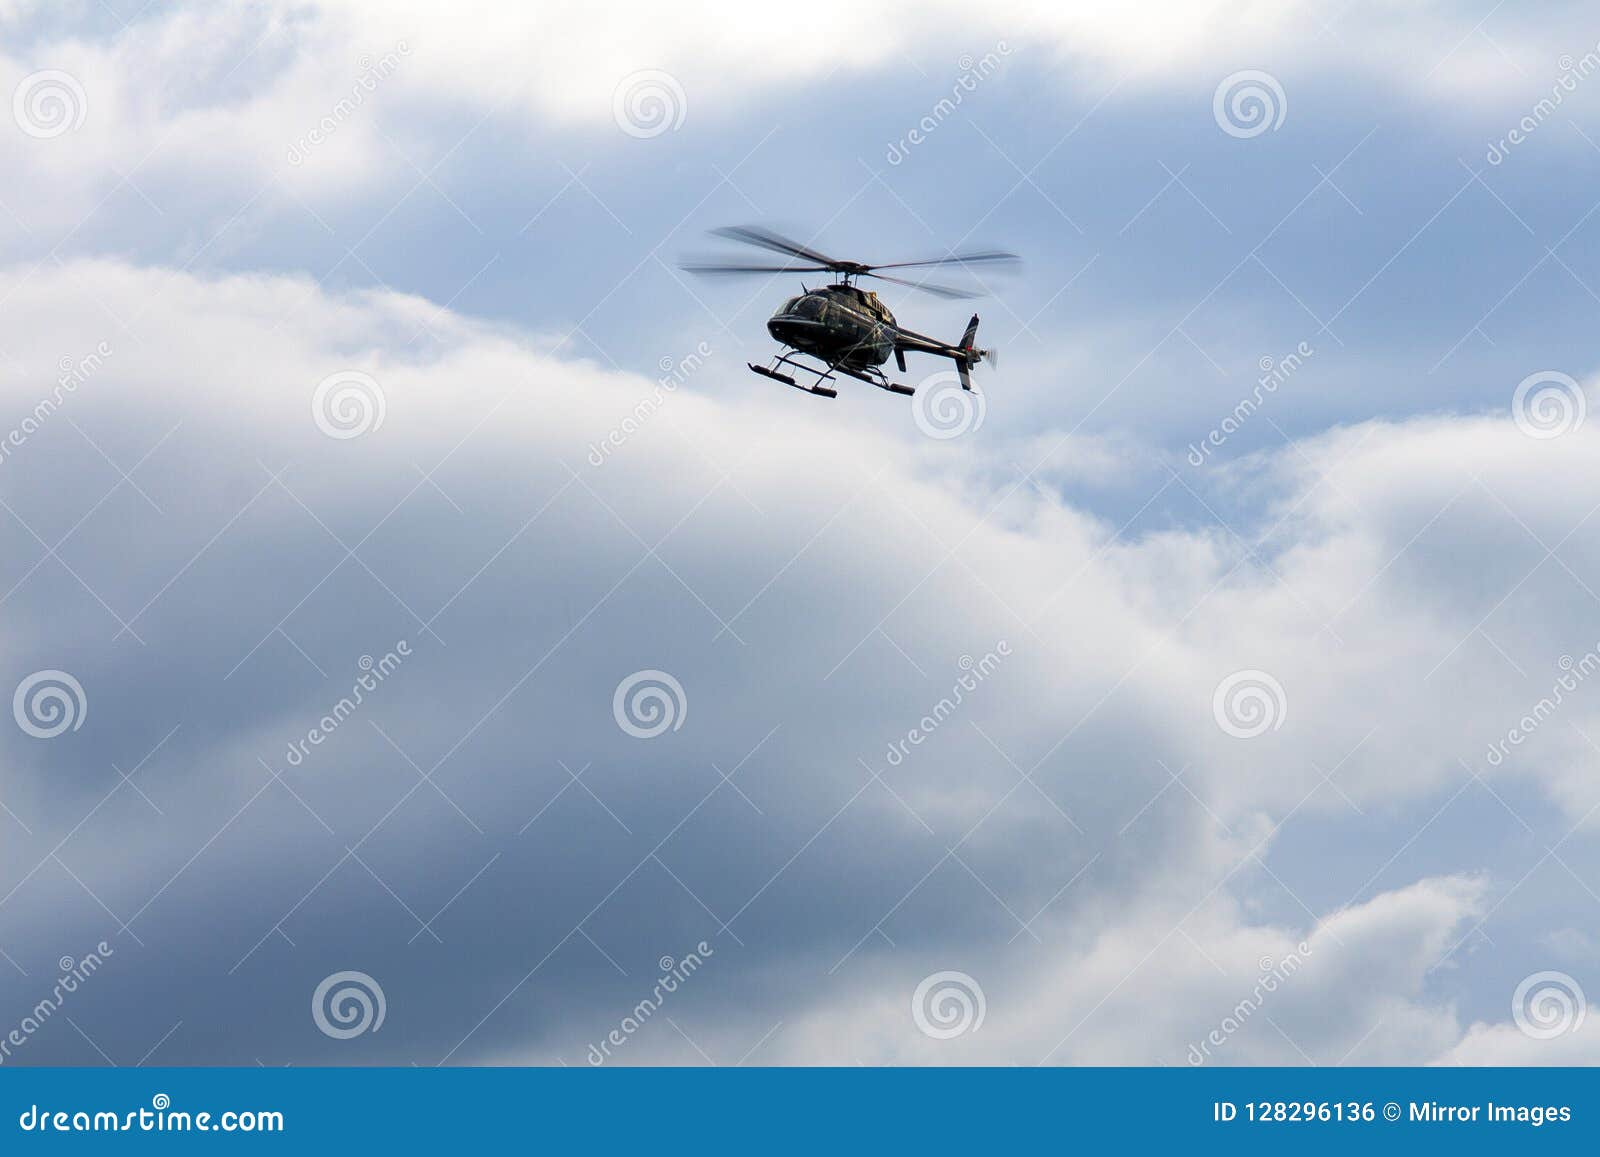helicopter: (634, 160, 1086, 454)
